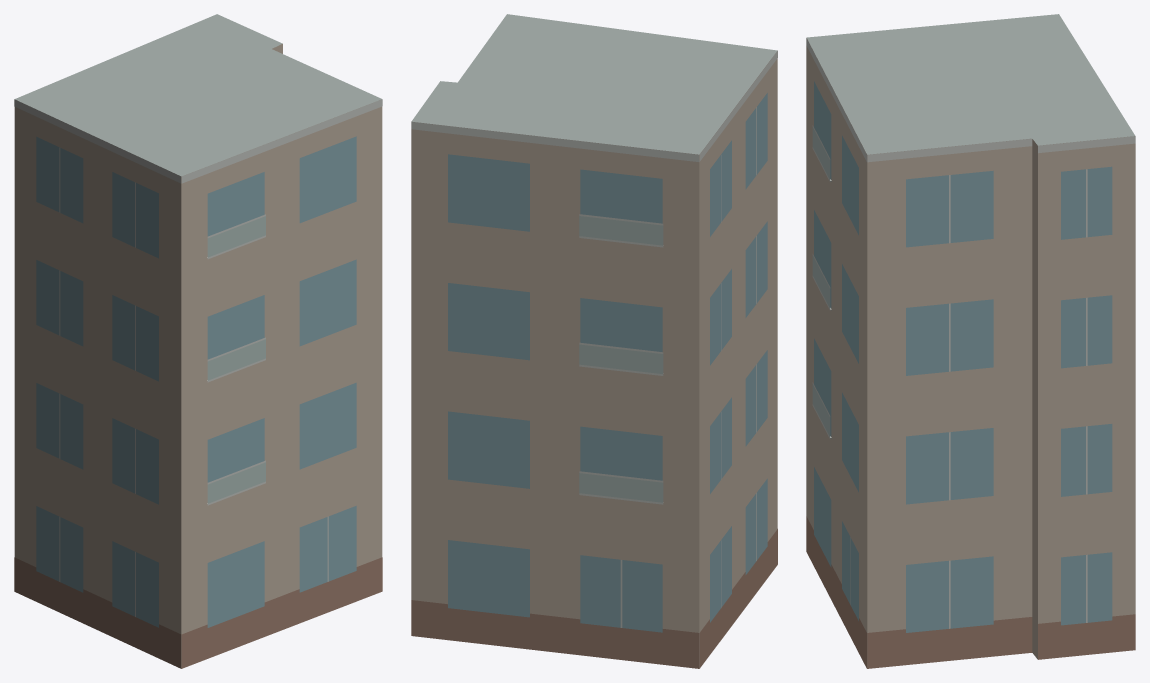
The model's file is survey-upis-32472304.glb.
The picture shows the model from 3 angles, left to right: view 1: azimuth 30°, elevation 25°; view 2: azimuth 150°, elevation 25°; view 3: azimuth 270°, elevation 25°; orthographic projection. The views are drawn at different scales.
Parts seen in each view (by area): view 1: survey-upis-32472304.tmp; view 2: survey-upis-32472304.tmp; view 3: survey-upis-32472304.tmp.
Part boxes in pixels (box(x1,y1,x2,y2)): survey-upis-32472304.tmp: box(14, 14, 382, 668); survey-upis-32472304.tmp: box(411, 14, 777, 668); survey-upis-32472304.tmp: box(806, 14, 1135, 668).
Bounding box in the file's own units: 9.69 × 16.5 × 9.58.
